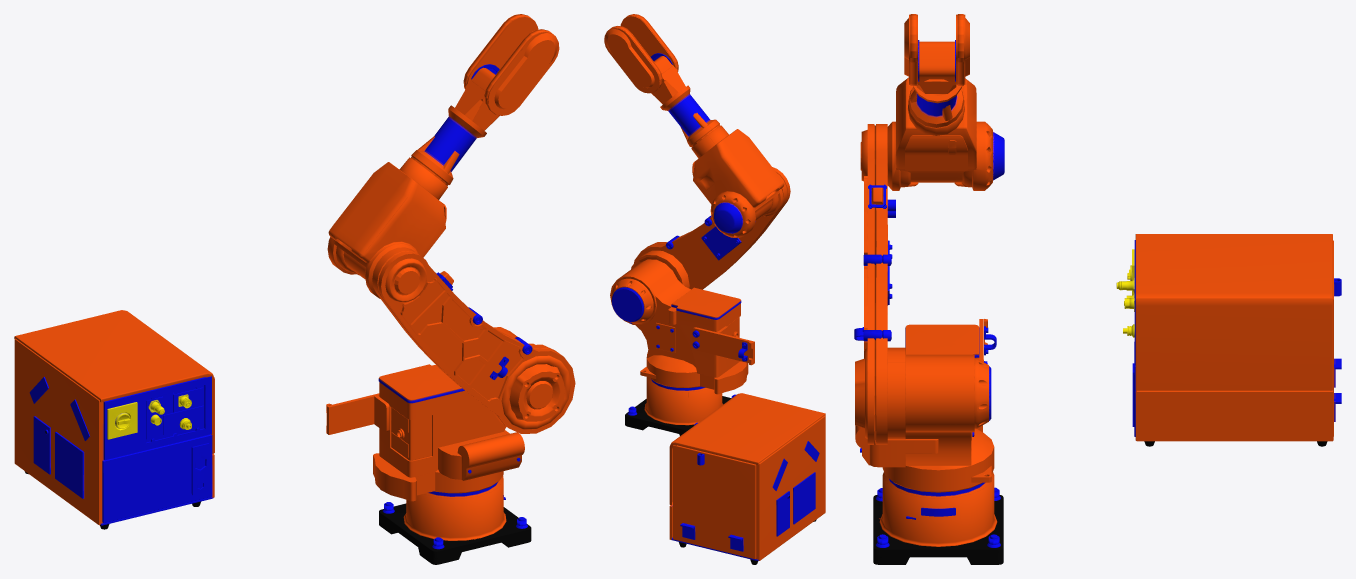
The model's file is Robot_body_part_B.fbx.
The picture shows the model from 3 angles, left to right: view 1: azimuth 30°, elevation 25°; view 2: azimuth 150°, elevation 25°; view 3: azimuth 270°, elevation 25°; orthographic projection. The views are drawn at different scales.
Parts seen in each view (by area): view 1: pCube246, polySurface2109, polySurface1999, polySurface343, polySurface246, polySurface2111, polySurface1873, polySurface201, polySurface2256, polySurface252, polySurface199, polySurface203 (+14 smaller); view 2: polySurface2106, pCube246, polySurface1999, polySurface2109, polySurface246, polySurface343, polySurface201, polySurface203, polySurface2058, polySurface335, polySurface2506, polySurface321 (+13 smaller); view 3: pCube246, pCube247, polySurface343, polySurface246, polySurface201, polySurface1999, polySurface199, polySurface203, polySurface335, polySurface2001, polySurface252, polySurface2058 (+4 smaller).
Boxes of the visible parts, x1,y1,x2,y2 form: pCube246: (14, 310, 214, 453); polySurface2109: (14, 338, 103, 525); polySurface1999: (327, 162, 445, 298); polySurface343: (372, 247, 575, 433); polySurface246: (379, 327, 517, 477); polySurface2111: (102, 434, 212, 522); polySurface1873: (400, 278, 525, 402); polySurface201: (403, 476, 506, 540); polySurface2256: (103, 376, 211, 459); polySurface252: (438, 430, 524, 480); polySurface199: (379, 503, 531, 564); polySurface203: (373, 453, 503, 501); polySurface2106: (673, 445, 756, 559); pCube246: (669, 393, 825, 505); polySurface1999: (693, 129, 784, 237); polySurface2109: (756, 415, 825, 560); polySurface246: (610, 259, 740, 377); polySurface343: (631, 167, 790, 292); polySurface201: (644, 377, 722, 425); polySurface203: (646, 354, 748, 394); polySurface2058: (660, 85, 719, 146); polySurface335: (671, 287, 740, 320); polySurface2506: (605, 28, 654, 88); polySurface321: (692, 327, 754, 363); pCube246: (1135, 234, 1332, 390); pCube247: (1135, 390, 1333, 441); polySurface343: (860, 124, 905, 444); polySurface246: (905, 354, 983, 465); polySurface201: (879, 472, 997, 546); polySurface1999: (887, 77, 992, 190); polySurface199: (873, 495, 1003, 564); polySurface203: (882, 425, 994, 492); polySurface335: (905, 324, 978, 358); polySurface2001: (905, 135, 967, 170); polySurface252: (855, 425, 938, 467); polySurface2058: (908, 79, 964, 127).
Size of the model in its own units: 41.03 by 53.09 by 41.76.
Materials: 1 (1 with a texture image).
